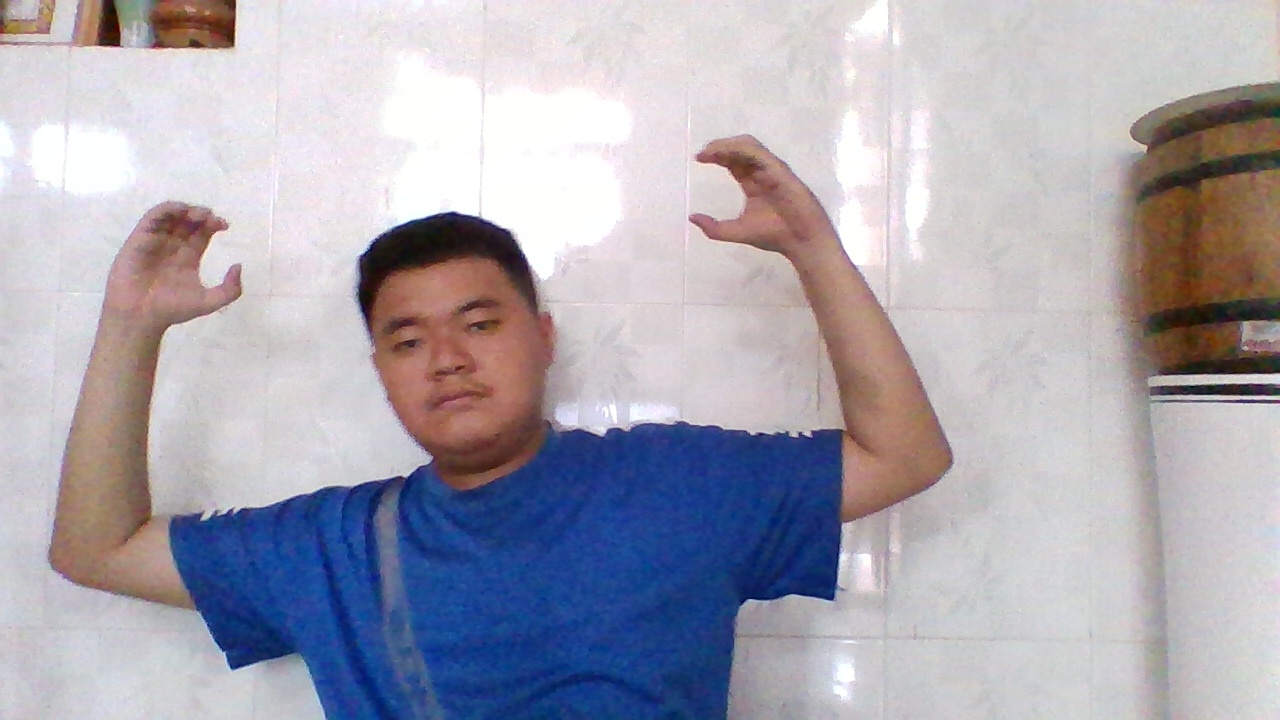C: (120, 190, 251, 334), (680, 125, 815, 257)
